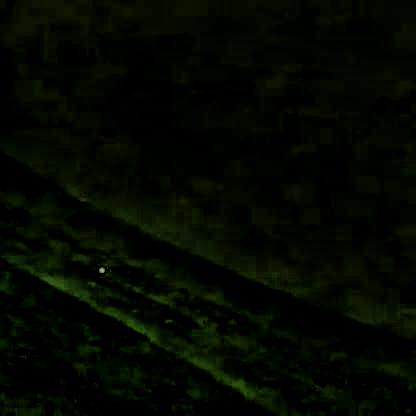golfball: (94, 263, 104, 273)
